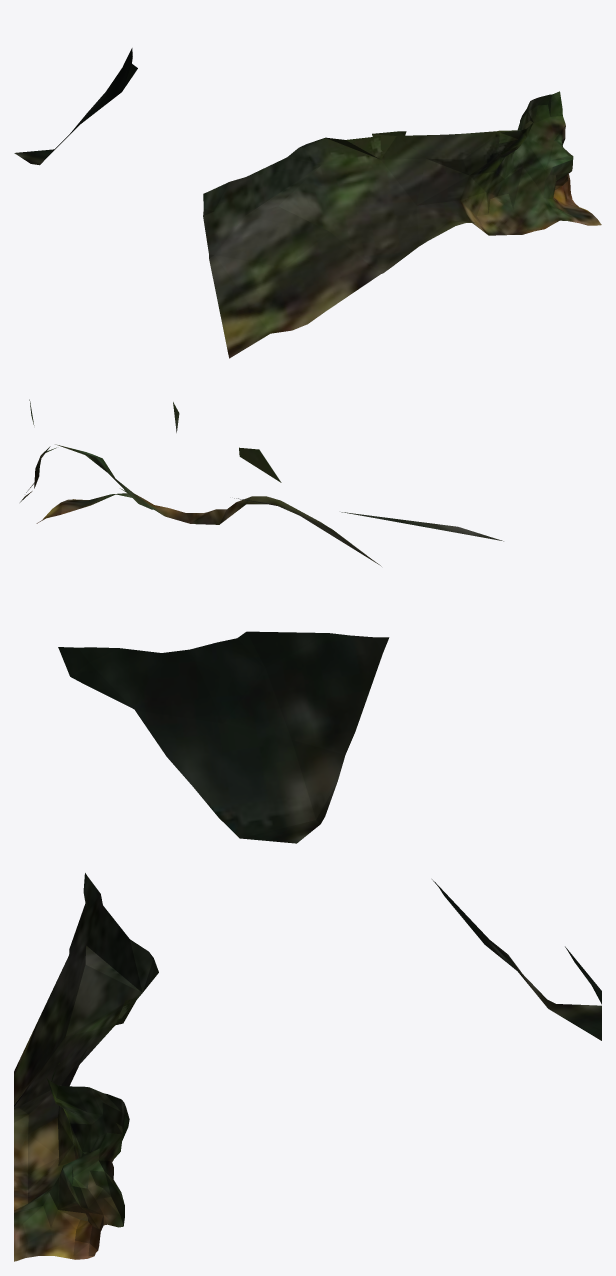
The picture shows the model from 3 angles, top to bottom: view 1: azimuth 30°, elevation 25°; view 2: azimuth 150°, elevation 25°; view 3: azimuth 270°, elevation 25°; orthographic projection. The views are drawn at different scales.
Size of the model in its own units: 0.8373 by 0.313 by 0.8373.
Materials: 1 (1 with a texture image).
